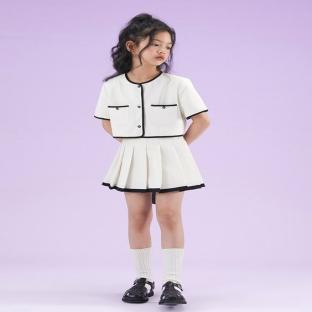Human: (94, 13, 210, 305)
